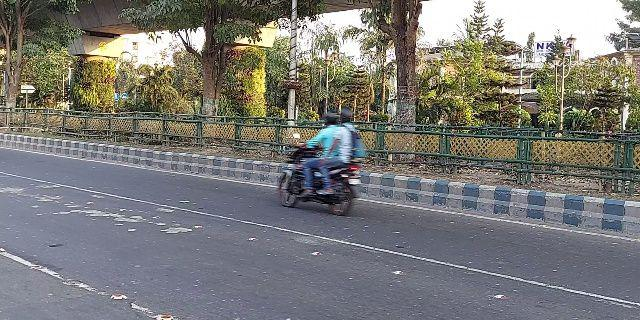Motorbike: (275, 112, 370, 219)
